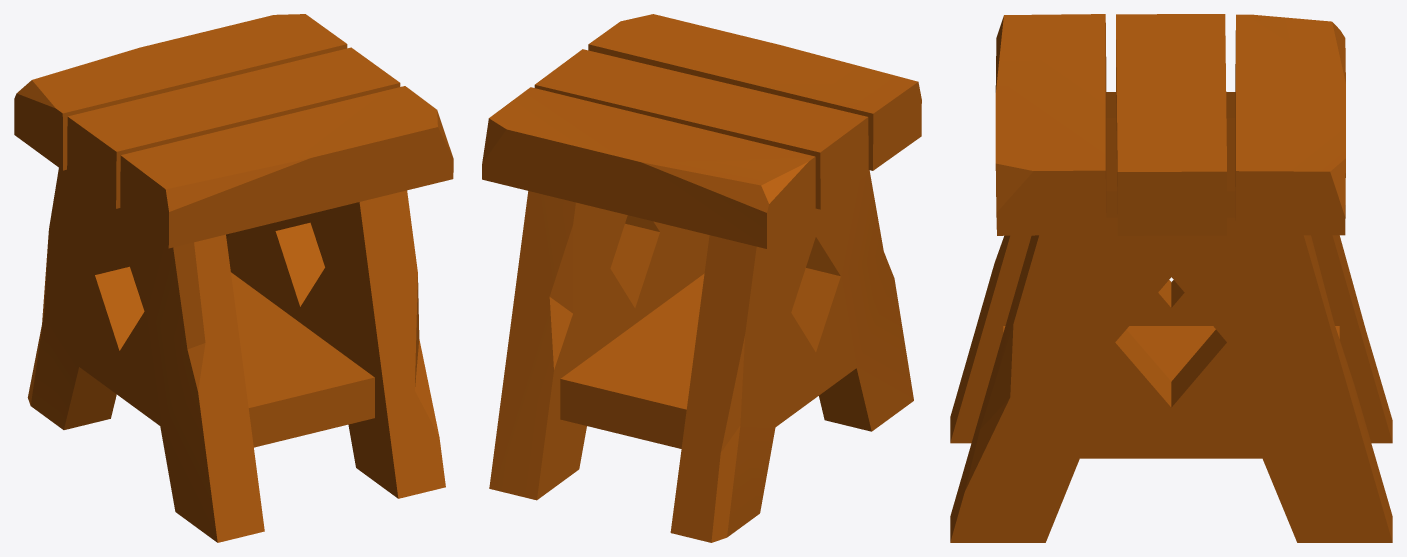
File: Stool_1.fbx
3 views of the same model, side by side, from view 1: azimuth 30°, elevation 25°; view 2: azimuth 150°, elevation 25°; view 3: azimuth 270°, elevation 25° (orthographic). The views are drawn at different scales.
Visible parts, largest first — view 1: Stool_1; view 2: Stool_1; view 3: Stool_1.
Part boxes in pixels (x1,y1,x2,y2): Stool_1: [14, 14, 453, 542]; Stool_1: [482, 14, 921, 542]; Stool_1: [950, 14, 1392, 542].
Size of the model in its own units: 14.68 by 16.9 by 17.48.
